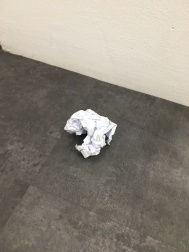paper_white: (56, 100, 123, 162)
